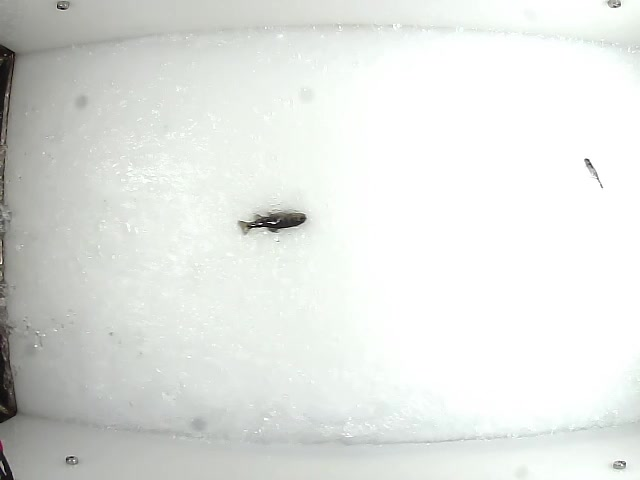fish: (236, 209, 308, 235), (584, 156, 606, 192)
